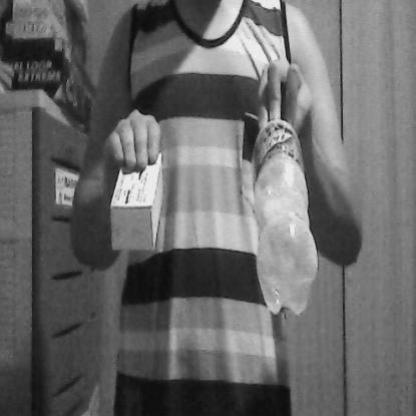Plastic Bottle: (235, 84, 327, 325)
